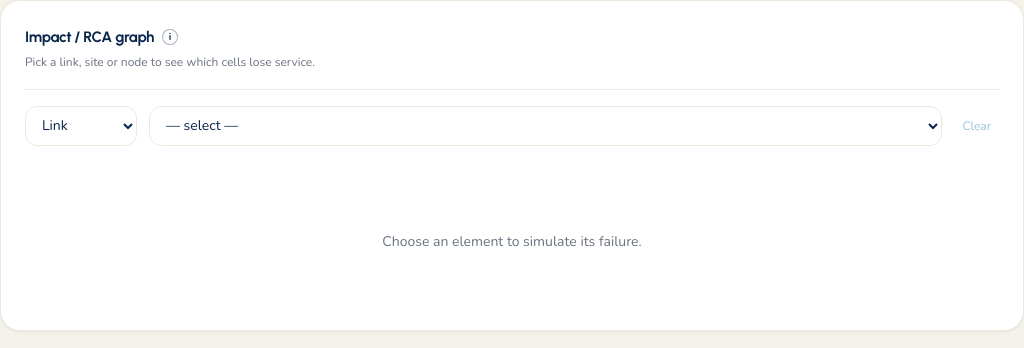
Scenario: RcaGraph (Step 14) › shows the gateway error when the graph profile is off
Select "LNK-003 · SITE-001 ↔ SITE-004 (core)" in the dropdown named "Failed element": (546, 126) [149,106,942,146]
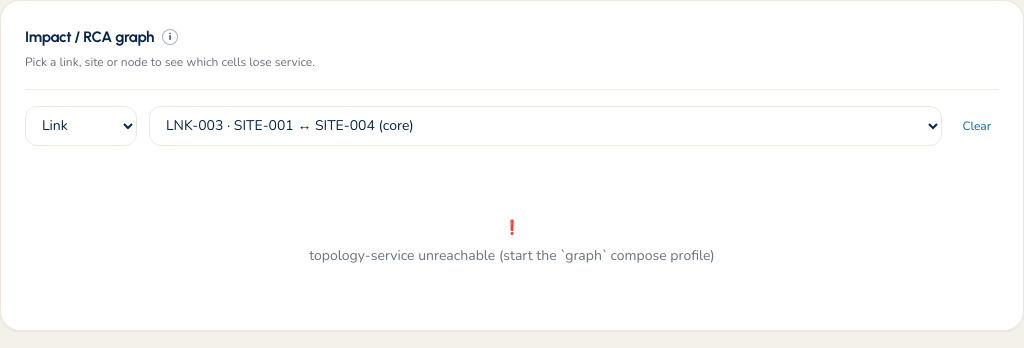
Expected: the text "start the `graph` compose profile" is shown, [309,246,715,265]
